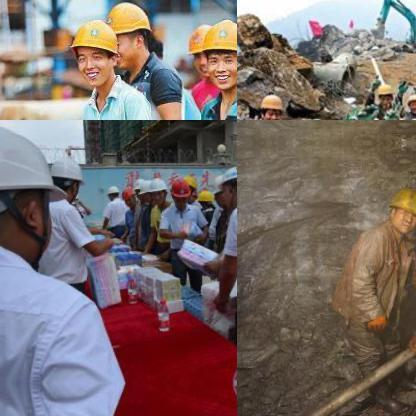Helmet: (68, 13, 128, 84), (90, 1, 148, 73), (205, 13, 236, 92), (184, 18, 216, 80), (382, 183, 415, 236), (52, 152, 84, 200), (257, 90, 283, 119), (220, 164, 236, 203), (171, 176, 190, 204), (136, 177, 155, 205), (375, 80, 395, 106), (148, 176, 166, 204), (210, 172, 224, 208), (196, 186, 214, 214), (120, 184, 134, 208), (104, 182, 118, 200), (358, 114, 381, 119)
